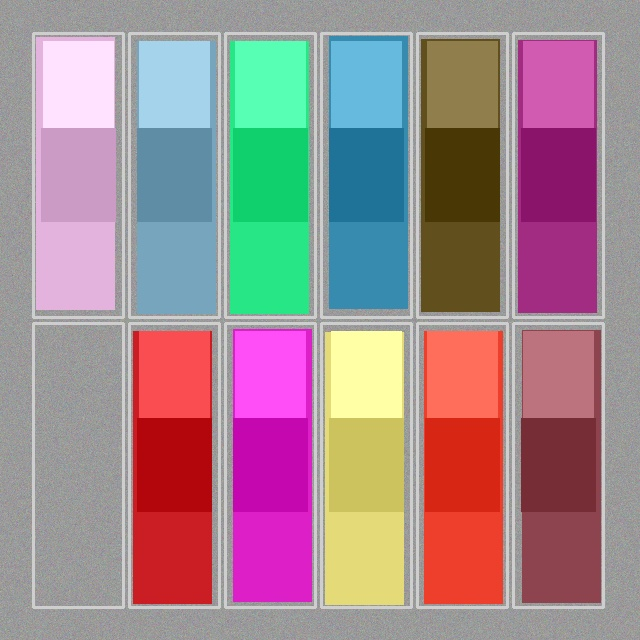space-empty: (35, 325, 121, 605)
space-occupied: (35, 35, 121, 315), (131, 35, 217, 315), (227, 35, 313, 315), (323, 35, 409, 315), (419, 35, 505, 315), (515, 35, 601, 315), (131, 325, 217, 605), (227, 325, 313, 605), (323, 325, 409, 605), (419, 325, 505, 605), (515, 325, 601, 605)
